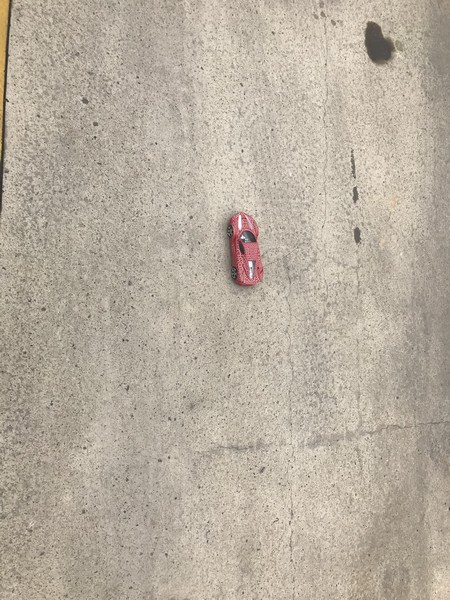RC: (225, 210, 266, 288)
